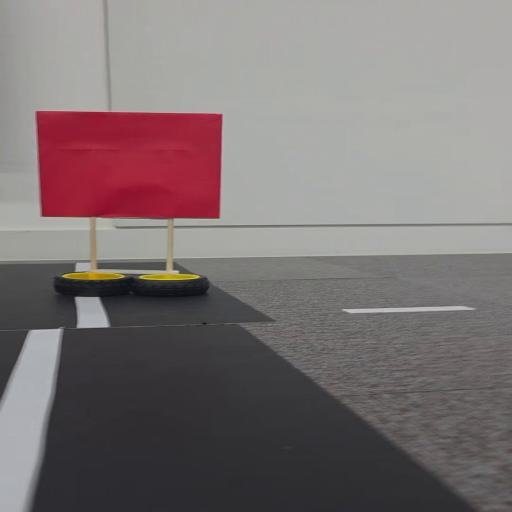Sign_A: (28, 103, 236, 307)
